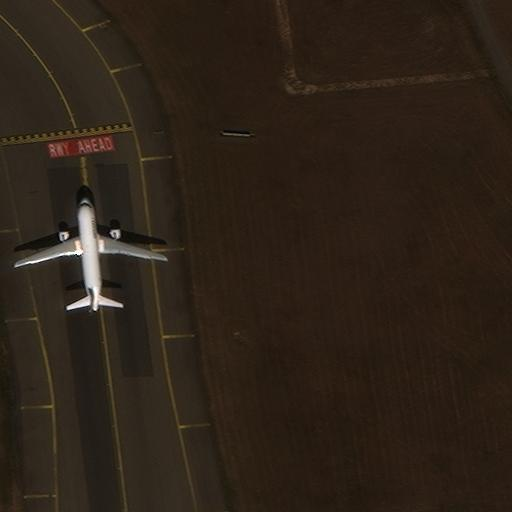Medium Civil Transport: (14, 197, 163, 311)
